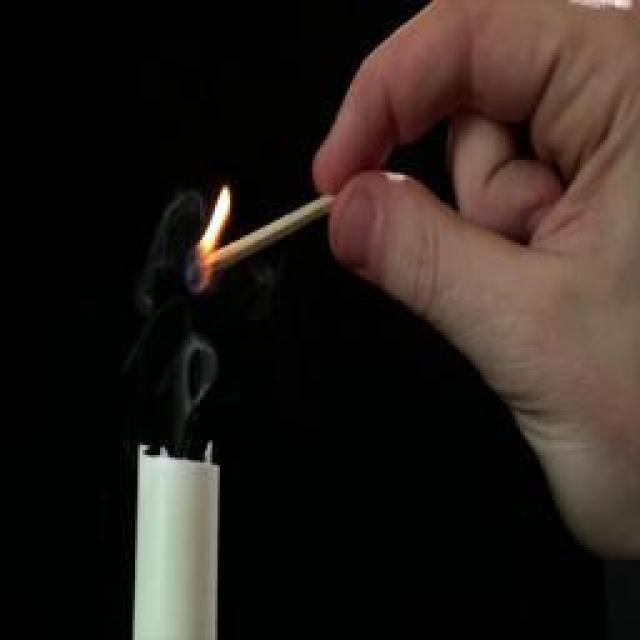Fire: (201, 186, 234, 254)
